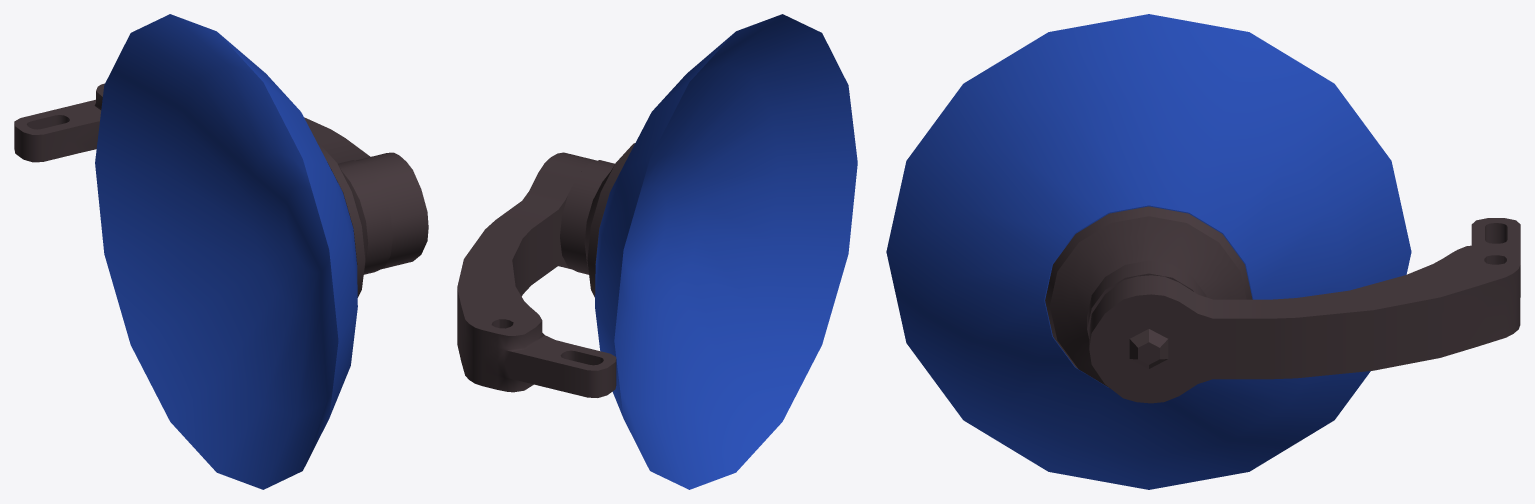
File: newton_sampler_cup_opposite.visual.glb
The picture shows the model from 3 angles, left to right: view 1: azimuth 30°, elevation 25°; view 2: azimuth 150°, elevation 25°; view 3: azimuth 270°, elevation 25°; orthographic projection. The views are drawn at different scales.
Parts seen in each view (by area): view 1: cup.002; view 2: cup.002; view 3: cup.002.
Boxes of the visible parts, x1,y1,x2,y2 form: cup.002: [14, 14, 428, 489]; cup.002: [457, 14, 857, 489]; cup.002: [886, 14, 1520, 489].
Size of the model in its own units: 0.0641 by 0.1178 by 0.1422.
